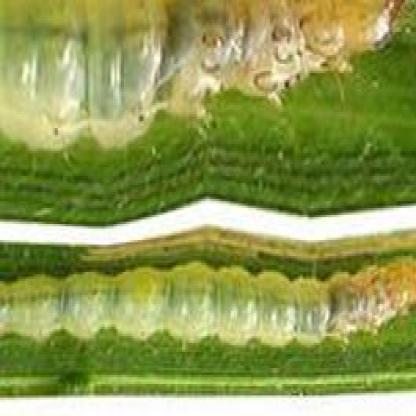leaf-folder: (0, 0, 392, 151), (22, 230, 404, 365)
